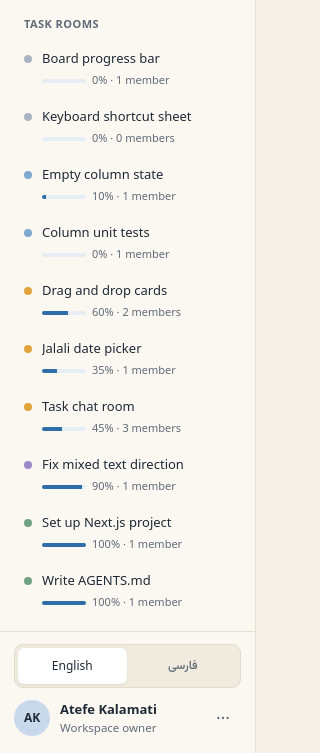
Scenario: account menu › closes with Escape and returns focus to ⋯
(page scrolled)
Click the button named "Account menu". click: (223, 718)
box: [205, 700, 241, 736]
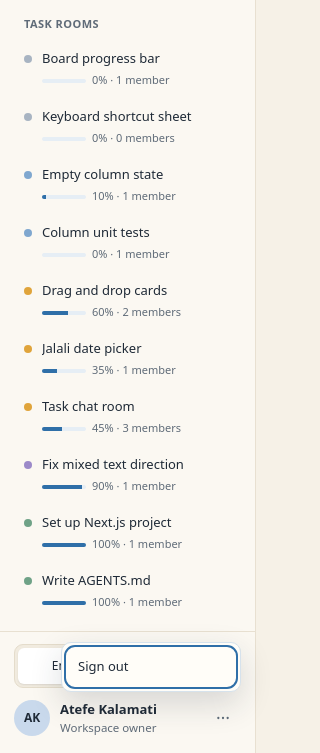
Press Escape
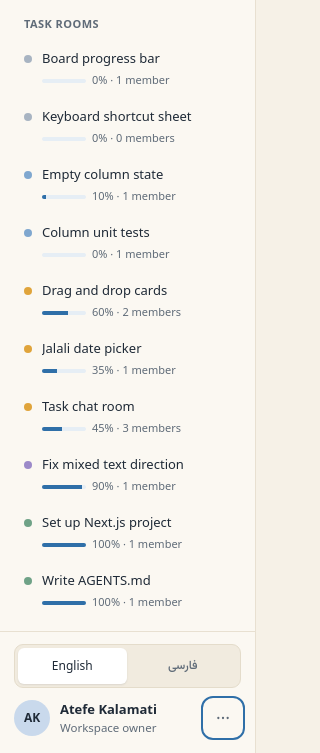
Now the menu is gone
